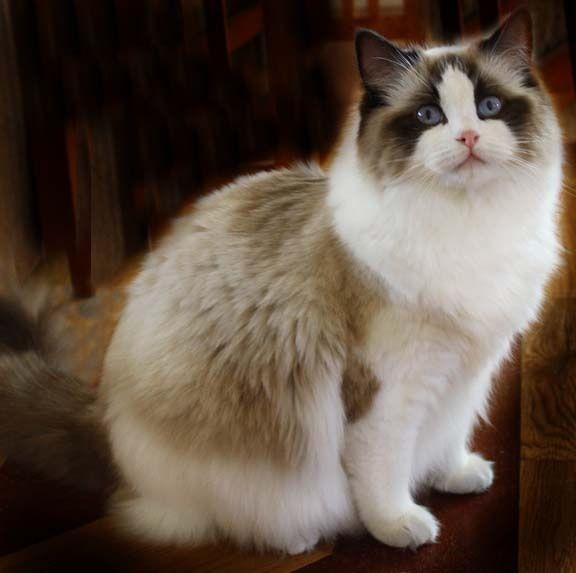ragdoll: (351, 4, 544, 207)
